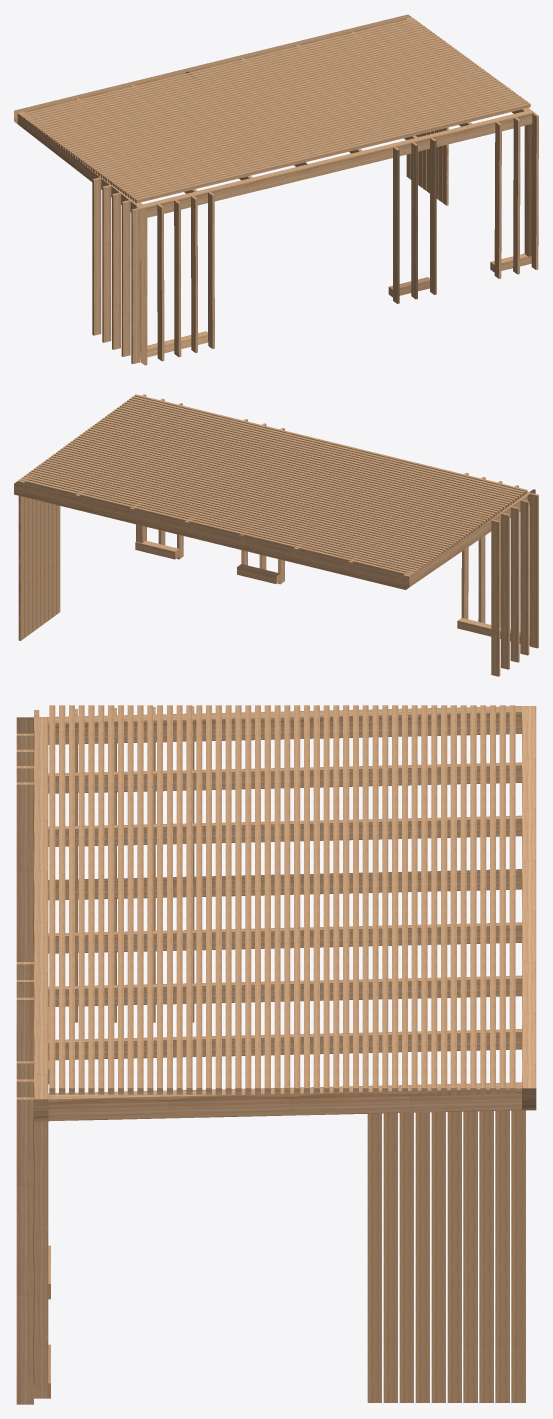
Rendered from pergola_structure.glb.
3 renders of one model, top to bottom at view 1: azimuth 30°, elevation 25°; view 2: azimuth 150°, elevation 25°; view 3: azimuth 270°, elevation 25°, orthographic. The views are drawn at different scales.
Visible parts, largest first — view 1: Material4; view 2: Material4; view 3: Material4.
Part boxes in pixels (<box>): Material4: <box>14,14,538,365</box>; Material4: <box>14,394,538,676</box>; Material4: <box>16,705,536,1404</box>.
Bounding box in the file's own units: 301 × 114 × 170.
1 material, 1 textured.
